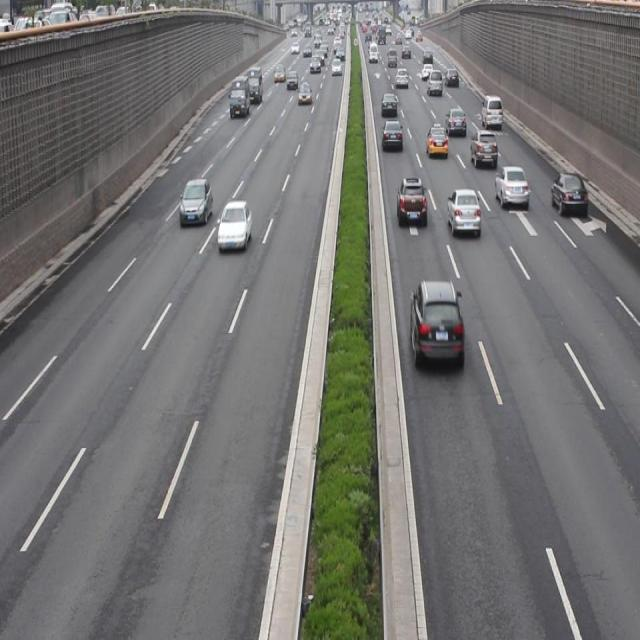car: (216, 198, 251, 248), (550, 169, 587, 215), (179, 176, 212, 227), (396, 174, 427, 228), (493, 162, 528, 208), (446, 187, 479, 233), (469, 127, 497, 168), (425, 122, 448, 160), (382, 119, 402, 151), (445, 106, 466, 135), (381, 90, 398, 116)
truck: (409, 276, 464, 366), (480, 94, 504, 130)
